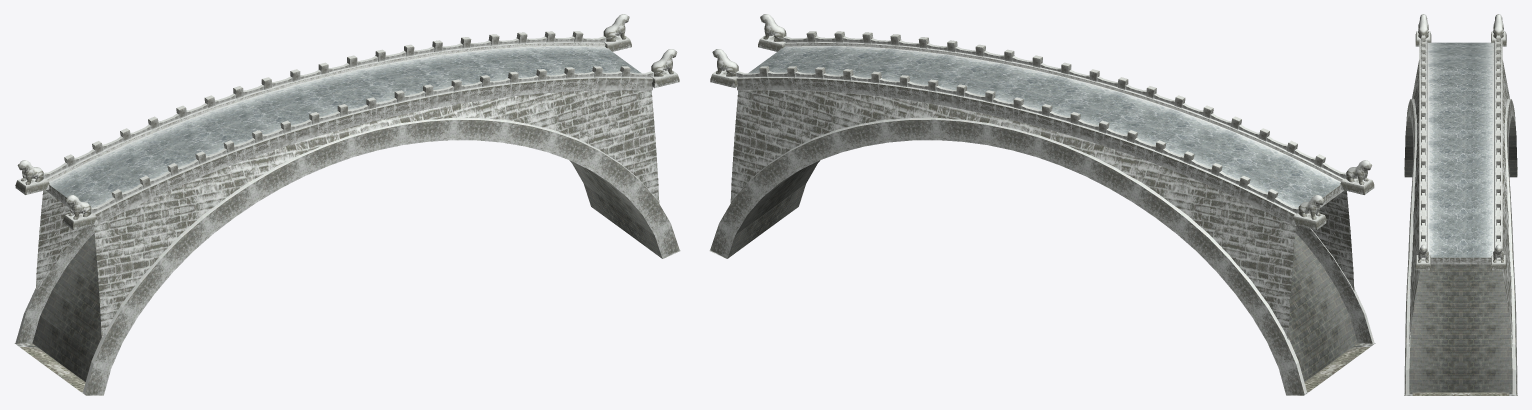
Rendered from whitdragonvalley_bridge02.fbx.
3 renders of one model, left to right at view 1: azimuth 30°, elevation 25°; view 2: azimuth 150°, elevation 25°; view 3: azimuth 270°, elevation 25°, orthographic. The views are drawn at different scales.
Visible parts, largest first — view 1: whitdragonvalley_bridge02; view 2: whitdragonvalley_bridge02; view 3: whitdragonvalley_bridge02.
Boxes of the visible parts, x1,y1,x2,y2 form: whitdragonvalley_bridge02: (14,14,680,395); whitdragonvalley_bridge02: (709,14,1375,395); whitdragonvalley_bridge02: (1404,14,1517,395).
Size of the model in its own units: 77.14 by 26.51 by 15.79.
